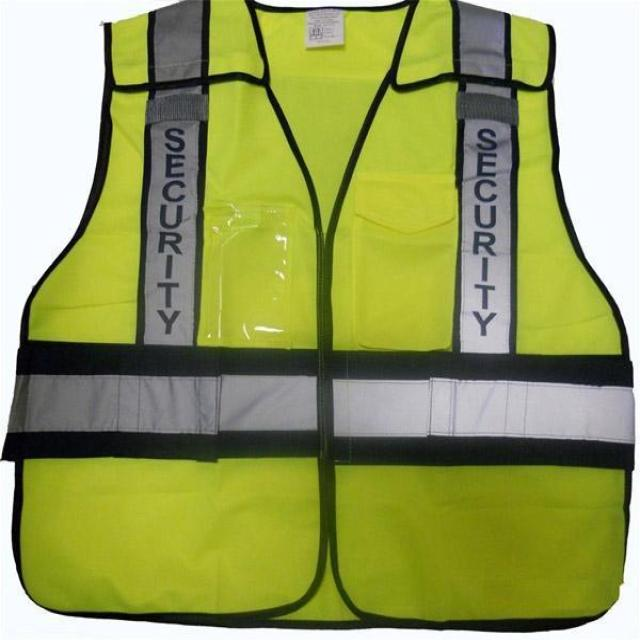Vest: (0, 0, 633, 633)
